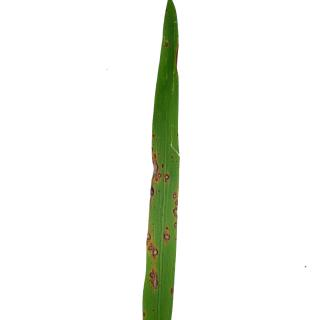Blast: (150, 265, 161, 292), (151, 152, 160, 179), (148, 244, 160, 257), (163, 230, 169, 244), (163, 173, 170, 185), (163, 39, 170, 49), (174, 206, 178, 221), (157, 175, 162, 178)
